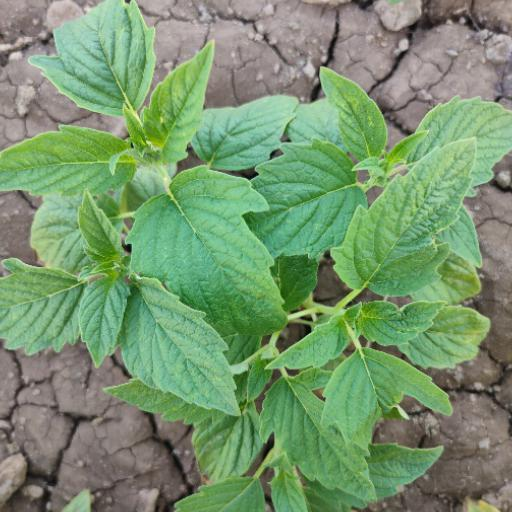crop: (1, 11, 510, 507)
